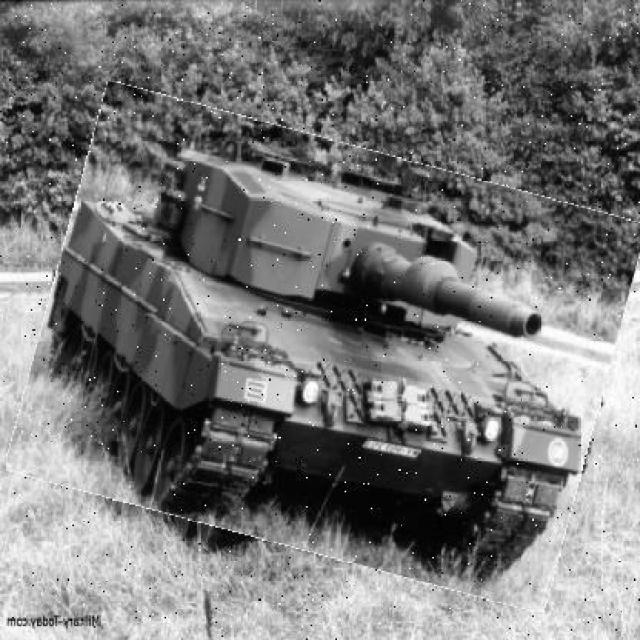Tank: (27, 115, 629, 582)
